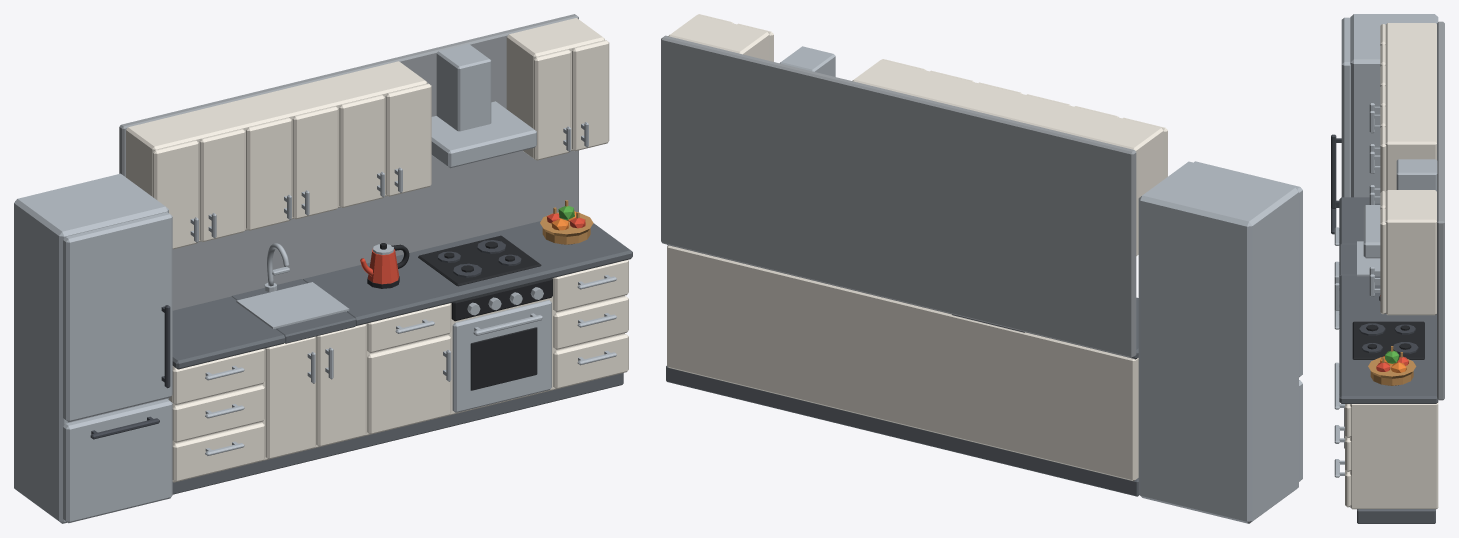
The model's file is modern-kitchen-set.glb.
3 renders of one model, left to right at view 1: azimuth 30°, elevation 25°; view 2: azimuth 150°, elevation 25°; view 3: azimuth 270°, elevation 25°, orthographic. The views are drawn at different scales.
Parts seen in each view (by area): view 1: Backsplash, Fridge_Door, Fridge_Body, Counter_Right, Freezer_Door, Wall_Cabinet_Left, Cabinet_Door_C, Oven_Door, Plinth, Sink_Door_R, Sink_Door_L, Counter_Left (+26 smaller); view 2: Backsplash, Base_Carcass, Fridge_Body, Wall_Cabinet_Left, Plinth, Wall_Cabinet_Right, Hood_Chimney, Fridge_Door; view 3: Base_Carcass, Wall_Cabinet_Left, Counter_Right, Wall_Cabinet_Right, Fridge_Body, Backsplash, Cooktop, Fridge_Door, Hood_Chimney, Counter_Left, Plinth, Hood (+15 smaller).
Boxes of the visible parts, box(x1,y1,x2,y2) form: Backsplash: box(119, 14, 578, 310); Fridge_Door: box(63, 212, 172, 422); Fridge_Body: box(14, 173, 168, 523); Counter_Right: box(302, 221, 632, 325); Freezer_Door: box(63, 399, 172, 523); Wall_Cabinet_Left: box(126, 61, 427, 241); Cabinet_Door_C: box(367, 335, 451, 434); Oven_Door: box(452, 300, 551, 412); Plinth: box(172, 373, 623, 494); Sink_Door_R: box(316, 324, 366, 446); Sink_Door_L: box(265, 336, 315, 459); Counter_Left: box(172, 296, 285, 369); Backsplash: box(661, 35, 1136, 357); Base_Carcass: box(667, 245, 1138, 481); Fridge_Body: box(1138, 161, 1298, 523); Wall_Cabinet_Left: box(852, 59, 1163, 255); Plinth: box(666, 366, 1139, 496); Wall_Cabinet_Right: box(668, 14, 769, 60); Hood_Chimney: box(780, 46, 835, 76); Fridge_Door: box(1194, 161, 1302, 377); Base_Carcass: box(1350, 402, 1438, 509); Wall_Cabinet_Left: box(1385, 23, 1436, 190); Counter_Right: box(1339, 275, 1438, 403); Wall_Cabinet_Right: box(1385, 190, 1436, 315); Fridge_Body: box(1350, 14, 1438, 197); Backsplash: box(1437, 21, 1444, 400); Cooktop: box(1352, 321, 1424, 359); Fridge_Door: box(1341, 17, 1350, 197); Hood_Chimney: box(1396, 159, 1437, 191); Counter_Left: box(1339, 197, 1380, 244); Plinth: box(1357, 509, 1435, 523); Hood: box(1363, 205, 1380, 258).
Bounding box in the file's own units: 13.4 × 7.6 × 2.59.
